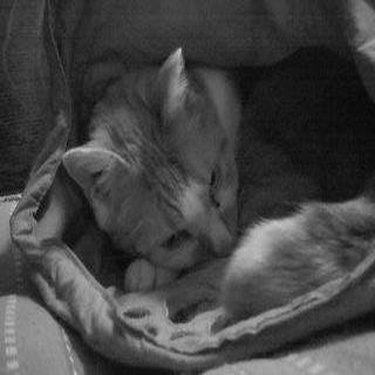cat: (61, 38, 366, 350)
